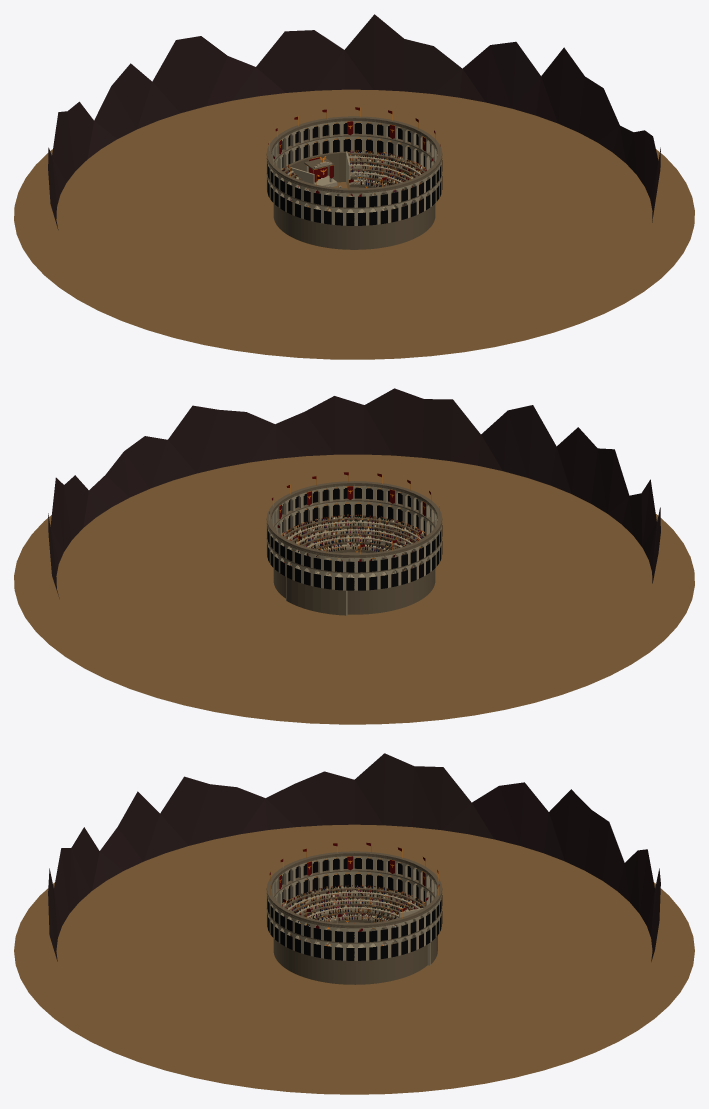
Rendered from Arena.fbx.
The picture shows the model from 3 angles, top to bottom: view 1: azimuth 30°, elevation 25°; view 2: azimuth 150°, elevation 25°; view 3: azimuth 270°, elevation 25°; orthographic projection.
Parts seen in each view (by area): view 1: Arena; view 2: Arena; view 3: Arena.
Part boxes in pixels (x1=…): Arena: x1=14, y1=14, x2=694, y2=359; Arena: x1=14, y1=388, x2=694, y2=724; Arena: x1=14, y1=753, x2=694, y2=1094.
Bounding box in the file's own units: 160 × 19.28 × 160.
